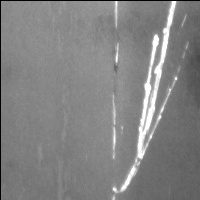inclusion: (52, 153, 74, 200)
scratches: (118, 2, 184, 198), (108, 1, 123, 72), (107, 90, 121, 161)
